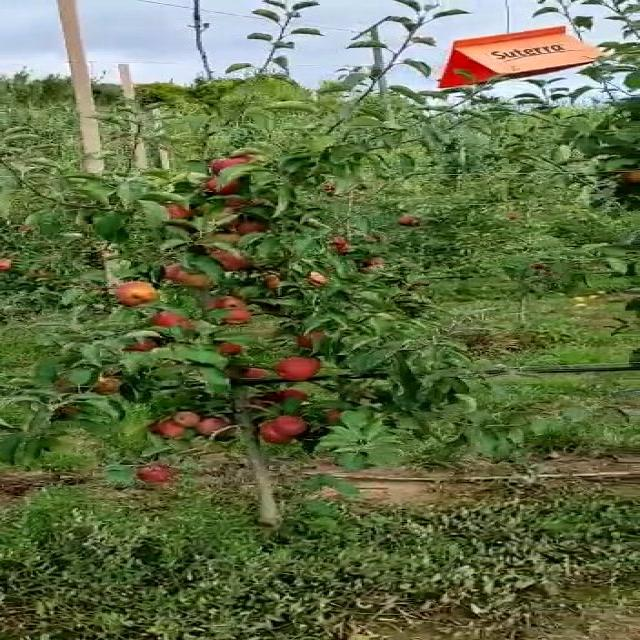100-_ripeness: (113, 278, 165, 308), (274, 357, 326, 381), (209, 155, 253, 183), (153, 308, 198, 335), (271, 412, 316, 438), (174, 267, 223, 290), (260, 420, 300, 448), (231, 212, 274, 238), (136, 418, 184, 440), (292, 329, 334, 352), (202, 173, 238, 197), (187, 419, 235, 434), (213, 248, 247, 269), (89, 379, 127, 397), (158, 205, 193, 223), (269, 388, 306, 405), (220, 295, 253, 314), (218, 310, 256, 325), (175, 409, 198, 426)
